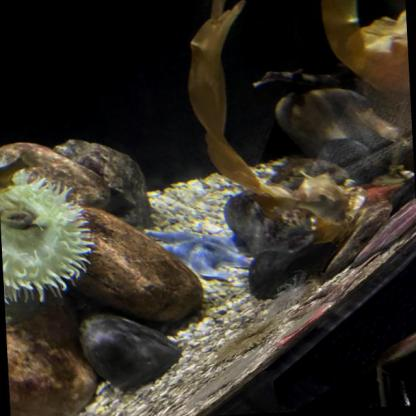fish: (0, 146, 55, 198), (291, 193, 347, 229)
starfish: (142, 223, 254, 283)
